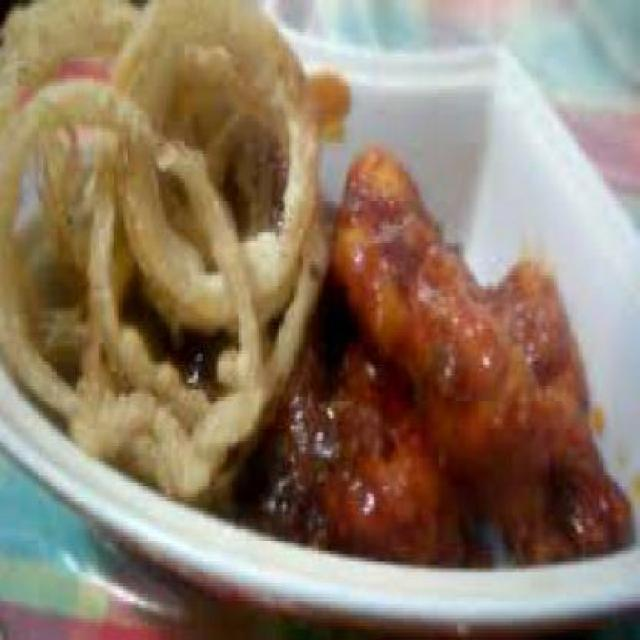chicken wings: (266, 142, 622, 568)
onion rings: (2, 4, 364, 501)
